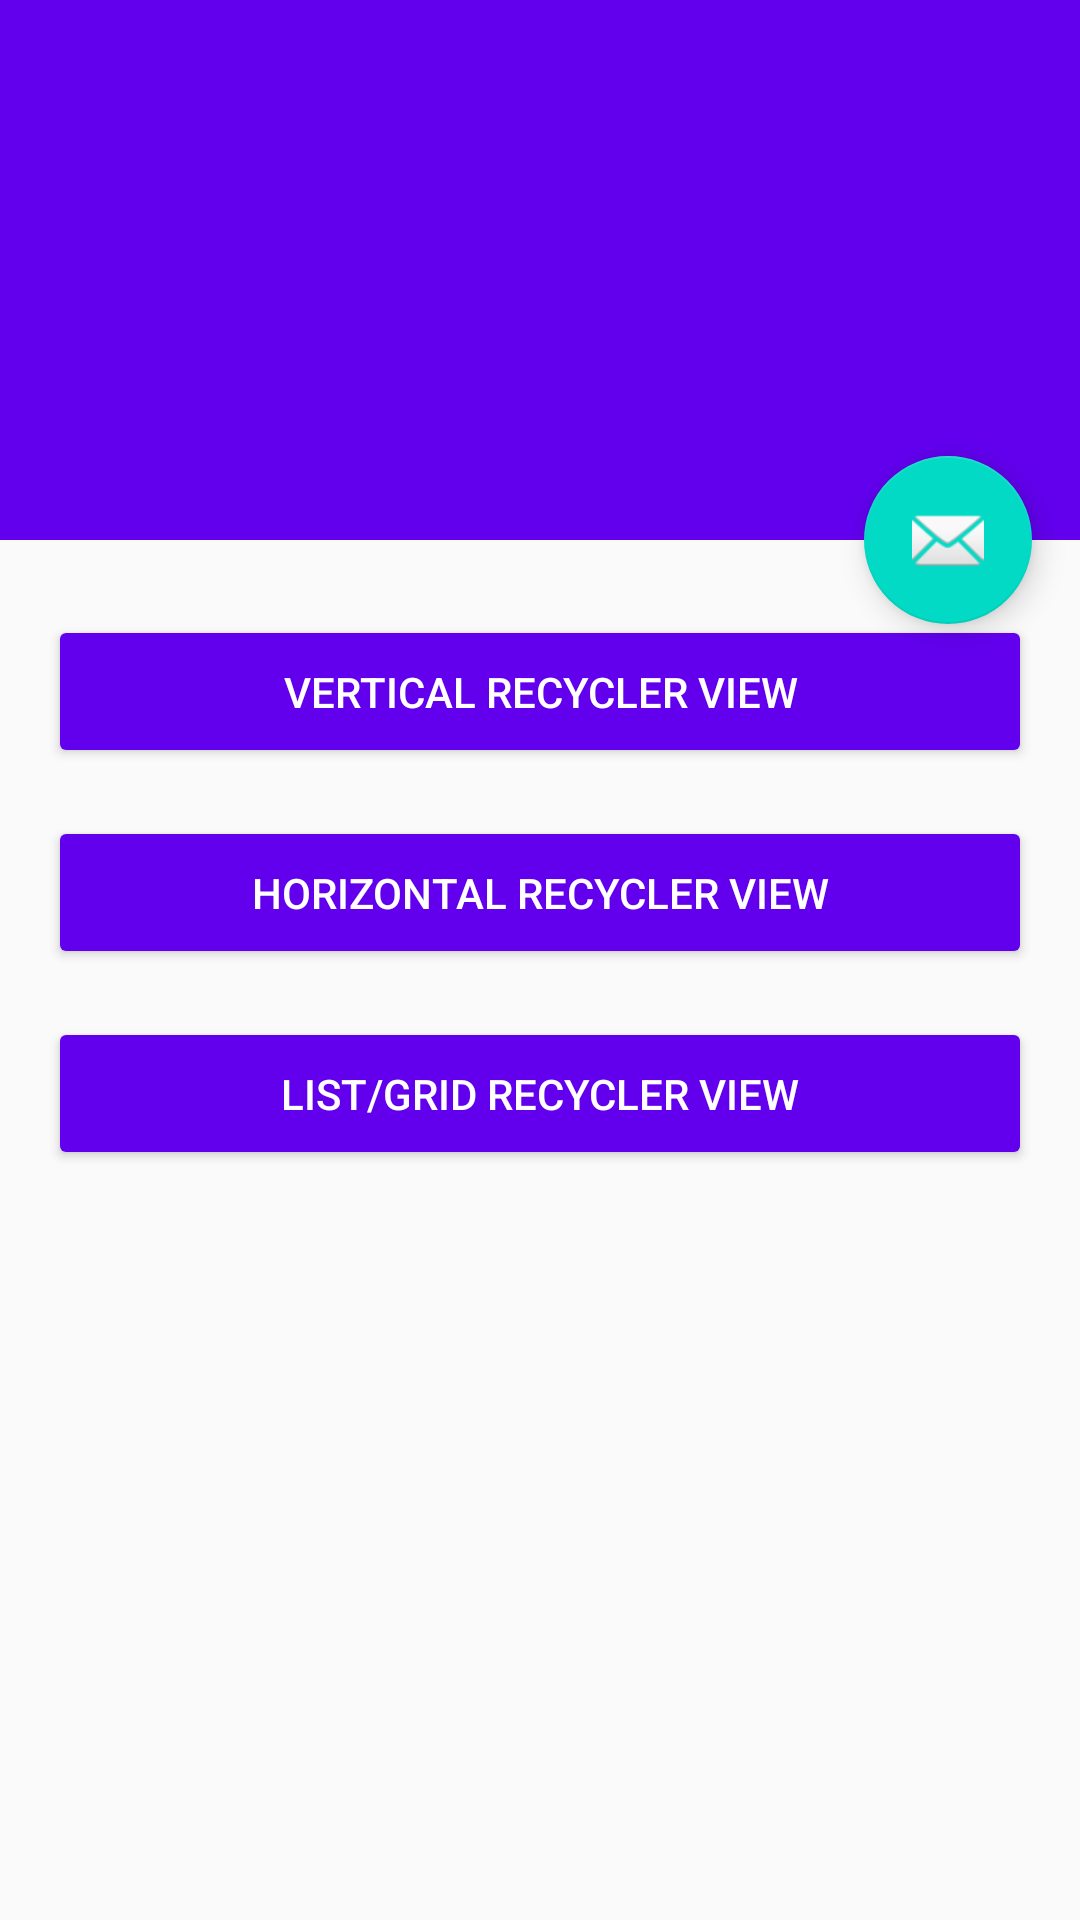

Icons on this 1080x1920 Android screen, each with the point to tap as point (x, y):
email: point (948, 540)
